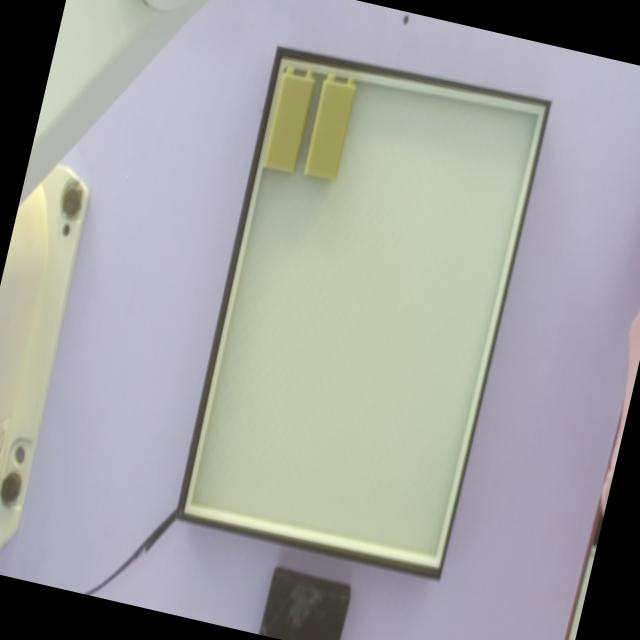bateria: (303, 73, 357, 180), (262, 65, 315, 172)
mesa: (174, 45, 551, 580)
